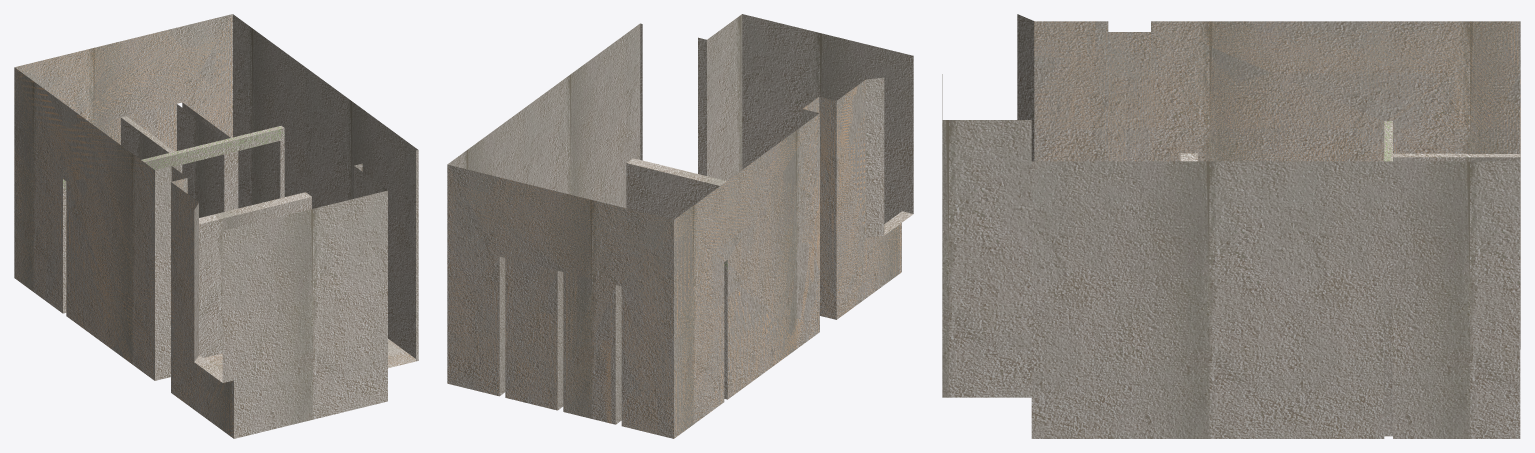
Rendered from COM004.obj.
3 views of the same model, side by side, from view 1: azimuth 30°, elevation 25°; view 2: azimuth 150°, elevation 25°; view 3: azimuth 270°, elevation 25° (orthographic). The views are drawn at different scales.
Visible parts, largest first — view 1: Mesh1 COM004 Model; view 2: Mesh1 COM004 Model; view 3: Mesh1 COM004 Model.
Boxes of the visible parts, x1,y1,x2,y2 form: Mesh1 COM004 Model: (14, 14, 418, 438); Mesh1 COM004 Model: (447, 14, 913, 438); Mesh1 COM004 Model: (942, 14, 1520, 438).
Size of the model in its own units: 4.1 by 3.6 by 6.8.
Materials: 5 (3 with a texture image).
